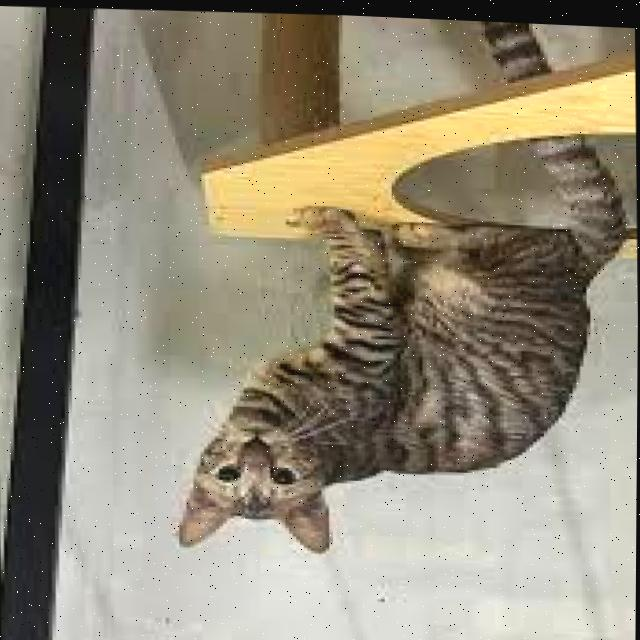Toyger: (163, 6, 637, 574)
